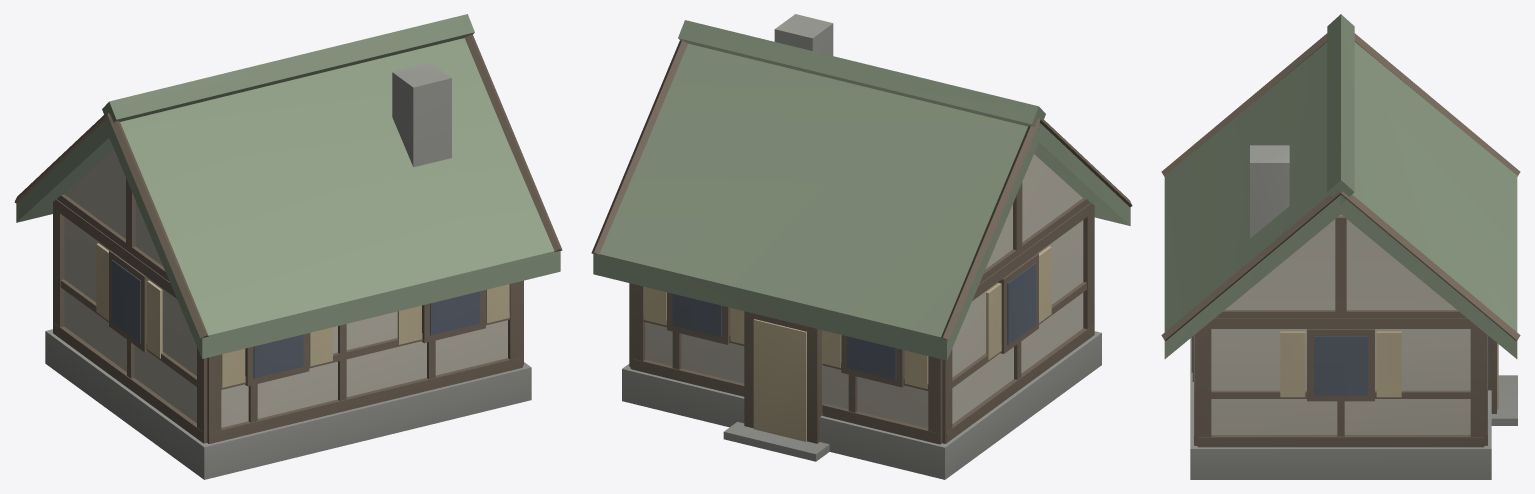
The model's file is cottage_green.gltf.
3 renders of one model, left to right at view 1: azimuth 30°, elevation 25°; view 2: azimuth 150°, elevation 25°; view 3: azimuth 270°, elevation 25°, orthographic. The views are drawn at different scales.
Visible parts, largest first — view 1: Body; view 2: Body; view 3: Body.
Part boxes in pixels (box(x1,y1,x2,y2)): Body: box(14, 14, 562, 479); Body: box(591, 14, 1132, 479); Body: box(1161, 14, 1520, 479).
Bounding box in the file's own units: 6.97 × 5.96 × 6.32.
